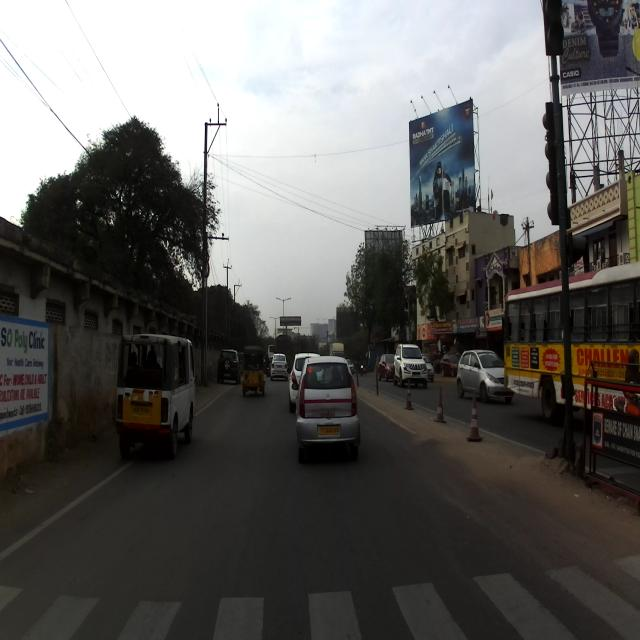barrier ahead at: (467, 396, 485, 448), (434, 384, 445, 429)
car ahead at: (116, 327, 196, 462), (296, 358, 361, 455)
traffic signal ahead at: (540, 97, 574, 231)
